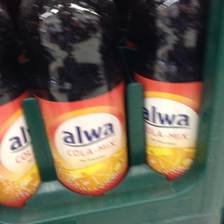soda: (27, 1, 129, 195), (136, 1, 207, 179)
